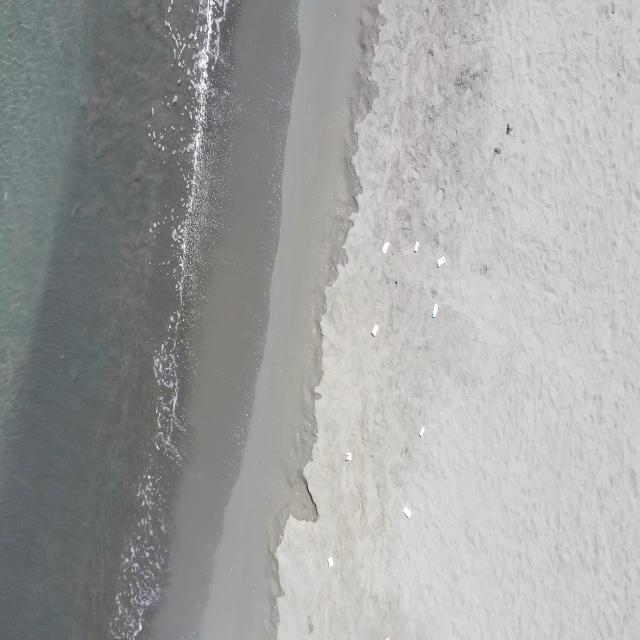retort-pouch: (402, 504, 412, 522), (381, 241, 391, 255), (436, 255, 446, 269), (431, 302, 439, 319), (370, 323, 379, 337), (418, 425, 425, 439), (413, 240, 420, 254), (344, 452, 353, 462), (328, 555, 334, 569)
